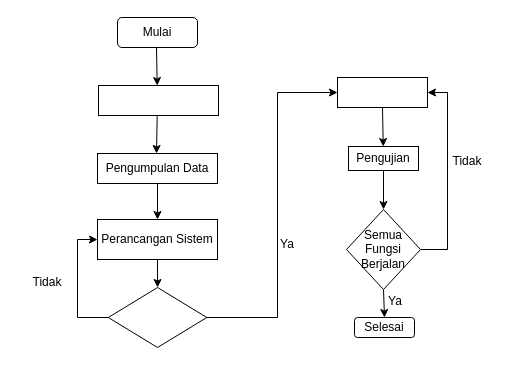
The diagram is 514 pixels wide and 365 high, and some of its shapes have lost their labels. The box of each missing label's shape, as (x1, y1, x2, y2) in pixels:
Implementasi: (336, 76, 428, 108)
Semua Kebutuhan Tersedia: (107, 286, 207, 348)
Studi Literatur: (98, 84, 218, 116)
